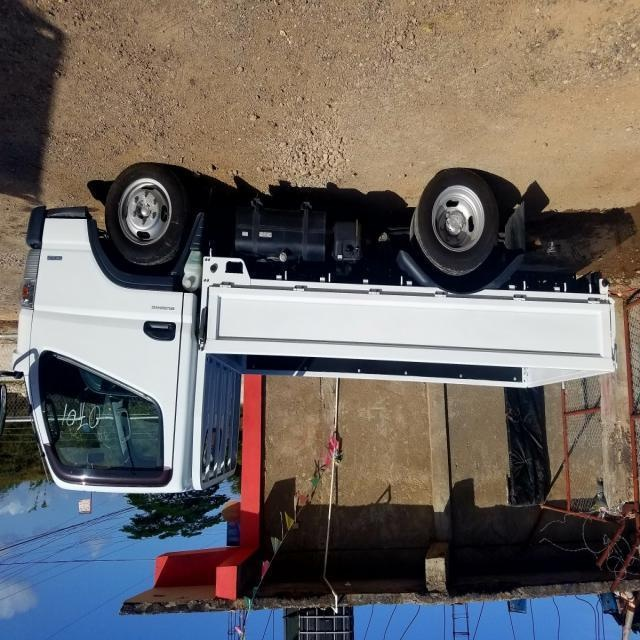Truck: (16, 169, 616, 496)
